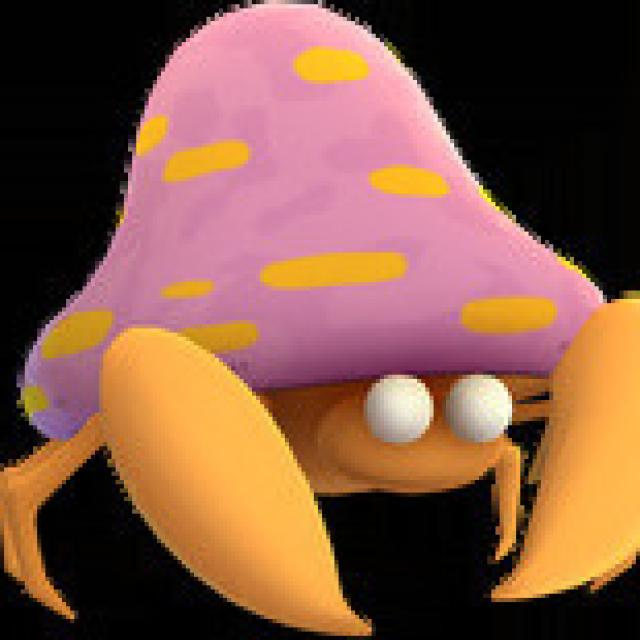Parasect: (90, 35, 632, 621)
